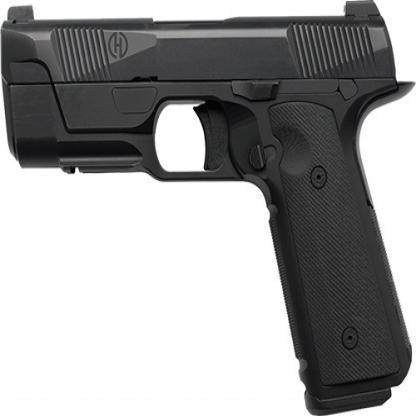Pistol: (2, 4, 410, 414)
